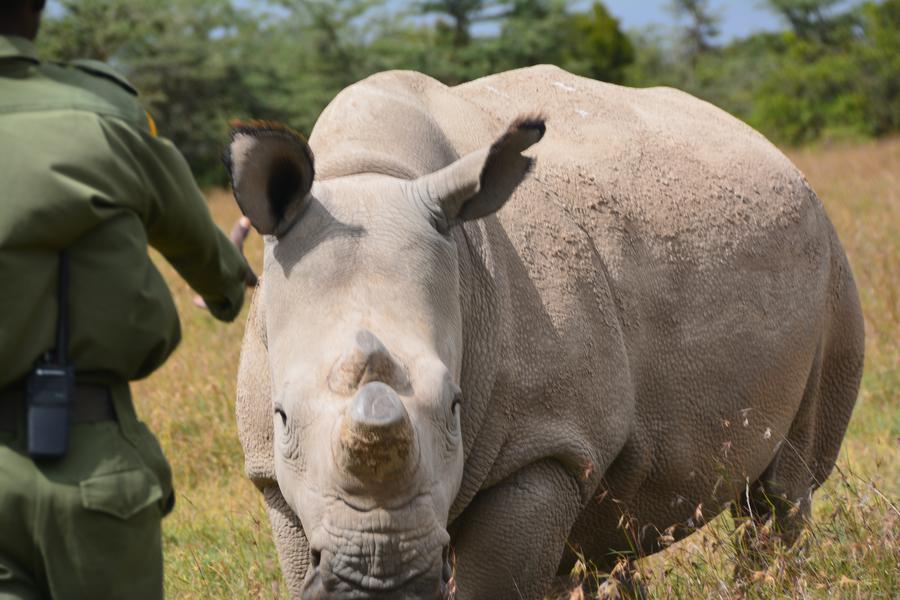rhino: (215, 51, 868, 561)
